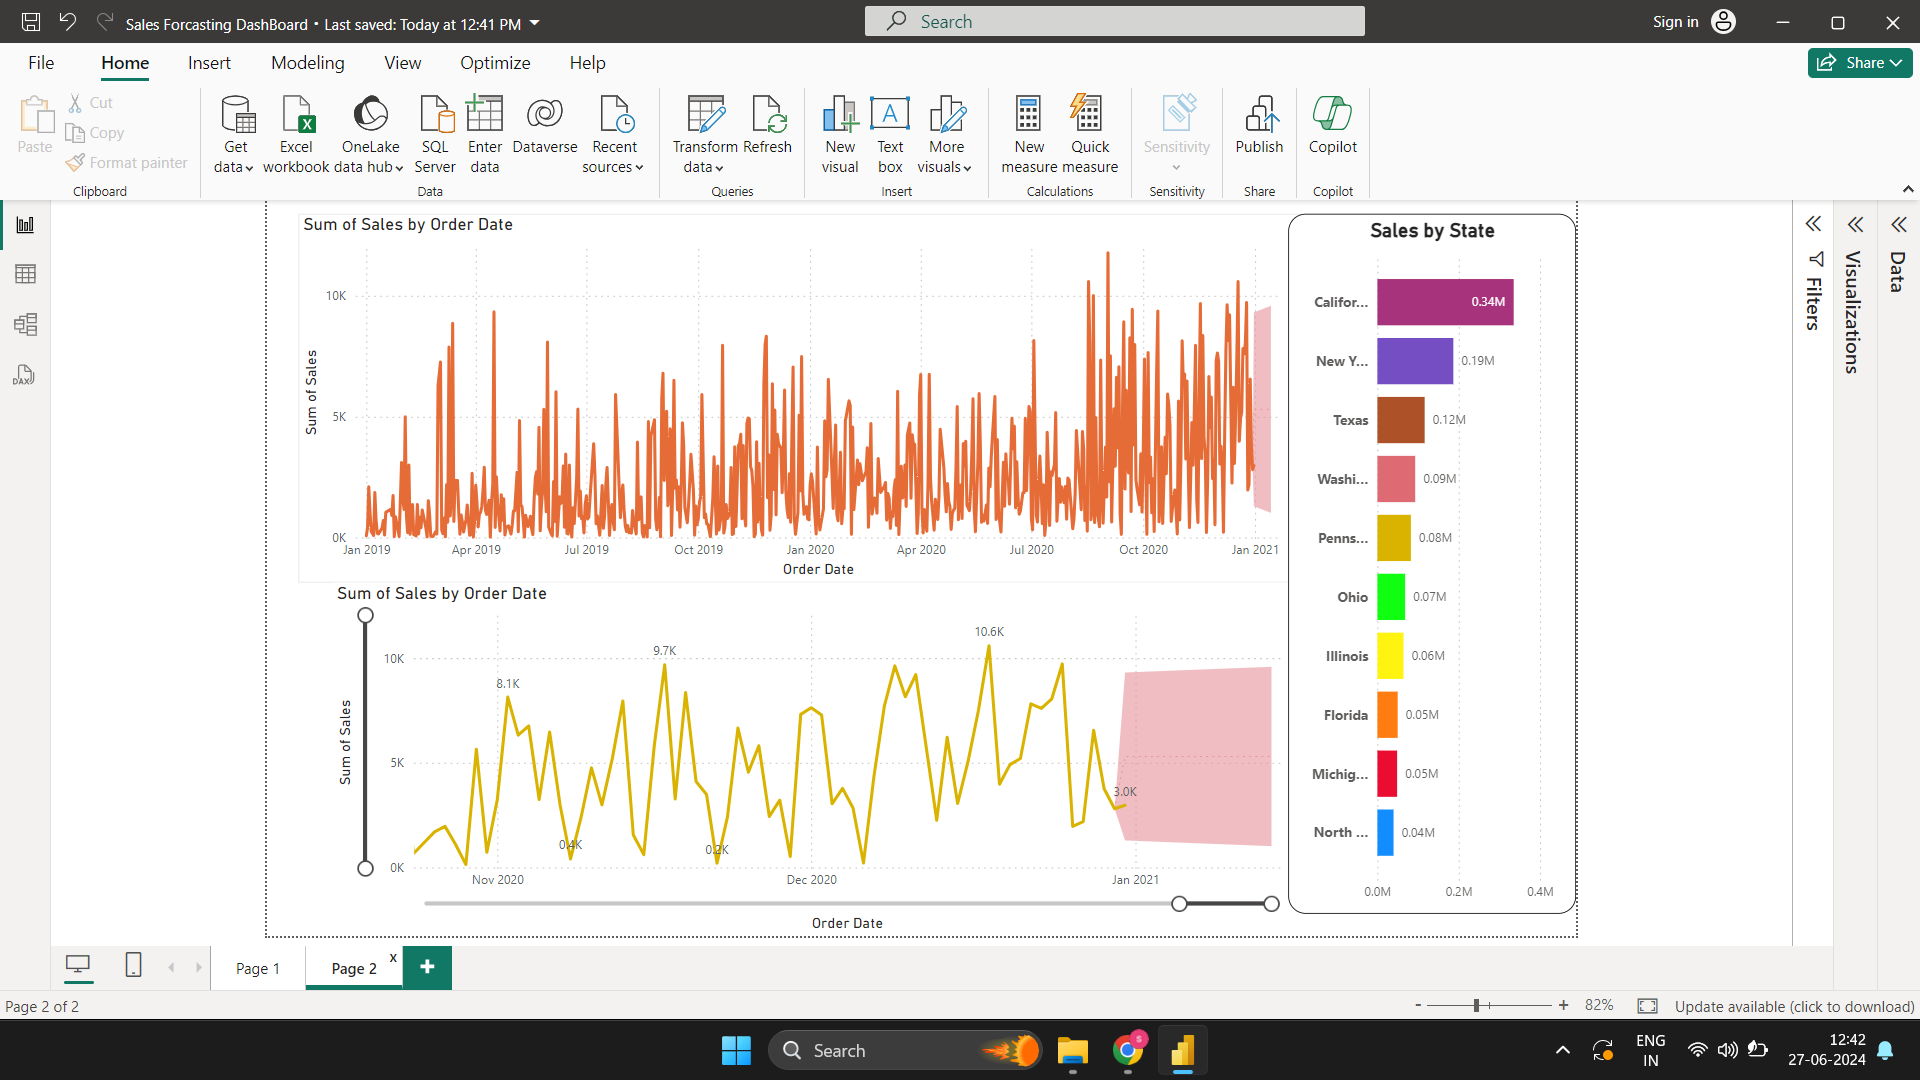

This screenshot's page, from the dashboard's own definition file:
{"tool":"powerbi","page":{"name":"Page 2","canvas":[1280,720],"ordinal":1},"visuals":[{"type":"lineChart","fields":{"Y":["Sum(SuperStore_Sales_Dataset.Sales)"],"Category":["SuperStore_Sales_Dataset.Order Date"]},"box":[30.6,13.5,980.7,360.7],"z":0},{"type":"lineChart","fields":{"Y":["Sum(SuperStore_Sales_Dataset.Sales)"],"Category":["SuperStore_Sales_Dataset.Order Date"]},"box":[63.6,374.2,947.7,346.1],"z":1000},{"type":"clusteredBarChart","title":"Sales by State","fields":{"Category":["SuperStore_Sales_Dataset.State"],"Y":["Sum(SuperStore_Sales_Dataset.Sales)"]},"box":[999.1,13.5,281.3,684.8],"z":2000}]}

Visuals, with their boxes on the page's 1280x720 design canvas (x1, y1, x2, y2). These are canvas units, not pixel positions in the 1920x1080 screenshot, which may show the page scaled, cropped or inside an application window:
lineChart - Sum(SuperStore_Sales_Dataset.Sales) x SuperStore_Sales_Dataset.Order Date: pyautogui.locateOnScreen(31, 14, 1011, 374)
lineChart - Sum(SuperStore_Sales_Dataset.Sales) x SuperStore_Sales_Dataset.Order Date: pyautogui.locateOnScreen(64, 374, 1011, 720)
"Sales by State" clusteredBarChart: pyautogui.locateOnScreen(999, 14, 1280, 698)
